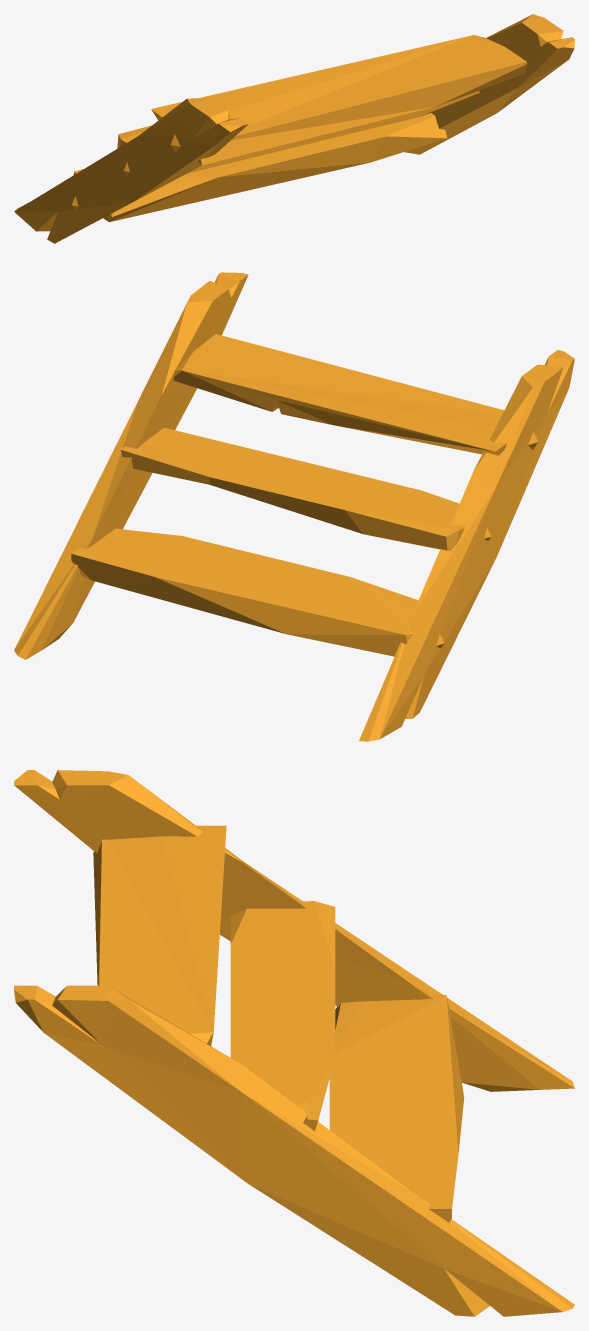
Rendered from SM_Palisade_Gallery_Stairs_1x1m_A.fbx.
3 renders of one model, top to bottom at view 1: azimuth 30°, elevation 25°; view 2: azimuth 150°, elevation 25°; view 3: azimuth 270°, elevation 25°, orthographic. The views are drawn at different scales.
Parts seen in each view (by area): view 1: palisade-gallery-stairs-1x1m-a; view 2: palisade-gallery-stairs-1x1m-a; view 3: palisade-gallery-stairs-1x1m-a.
Part boxes in pixels (x1,y1,x2,y2): palisade-gallery-stairs-1x1m-a: (14, 14, 574, 243); palisade-gallery-stairs-1x1m-a: (14, 272, 574, 741); palisade-gallery-stairs-1x1m-a: (14, 770, 574, 1316).
Bounding box in the file's own units: 1.62 × 0.9874 × 1.6.
